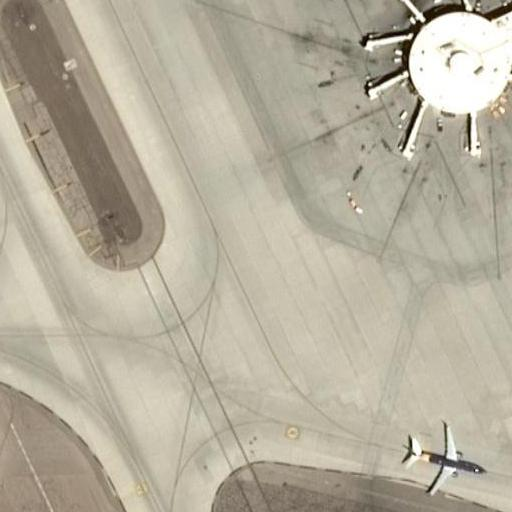Aircraft: (402, 420, 486, 499)
